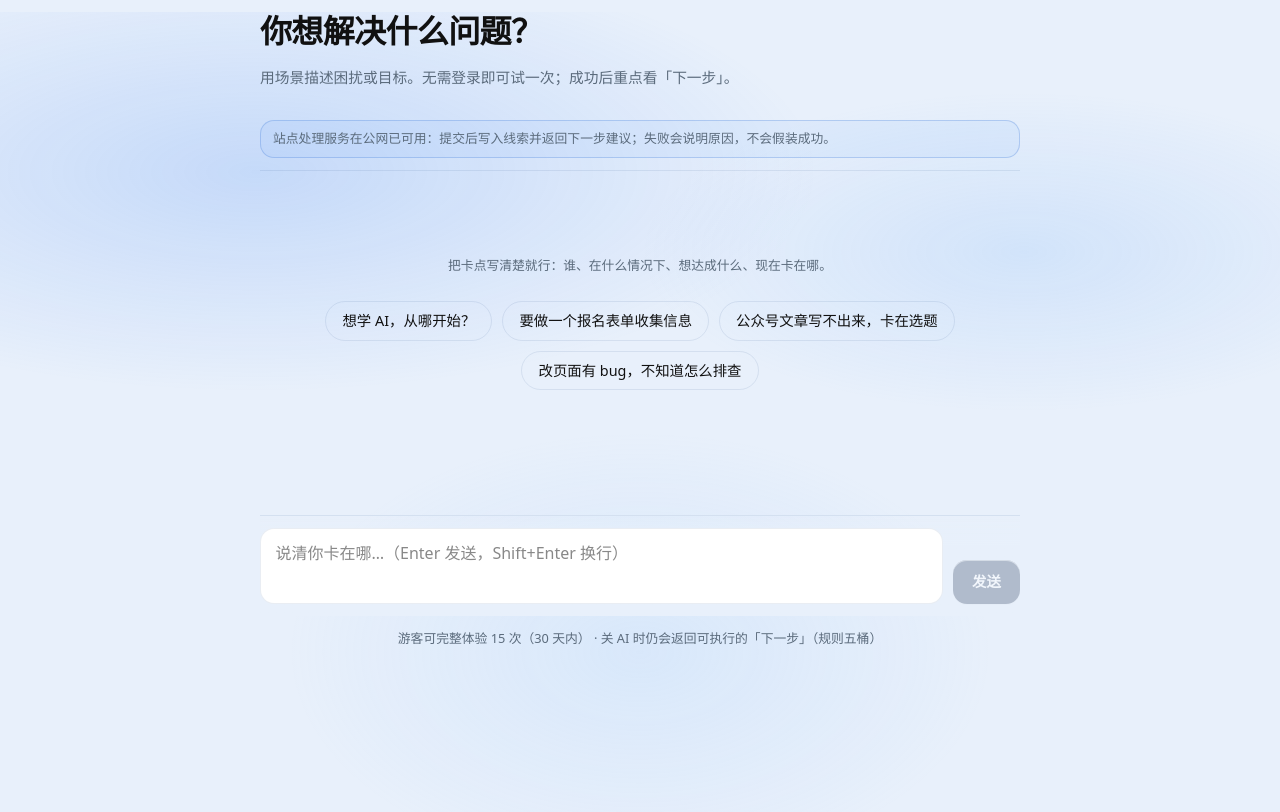
Test: 卡口对话页 › 失败时对话内说明原因，并把内容还给输入框
Type "想学 AI 写周报，每天只有半小时，不知道从哪开始" into the text box named "描述你的卡点".
click(601, 566); type("想学 AI 写周报，每天只有半小时，不知道从哪开始")  # box left=260, top=528, right=943, bottom=604
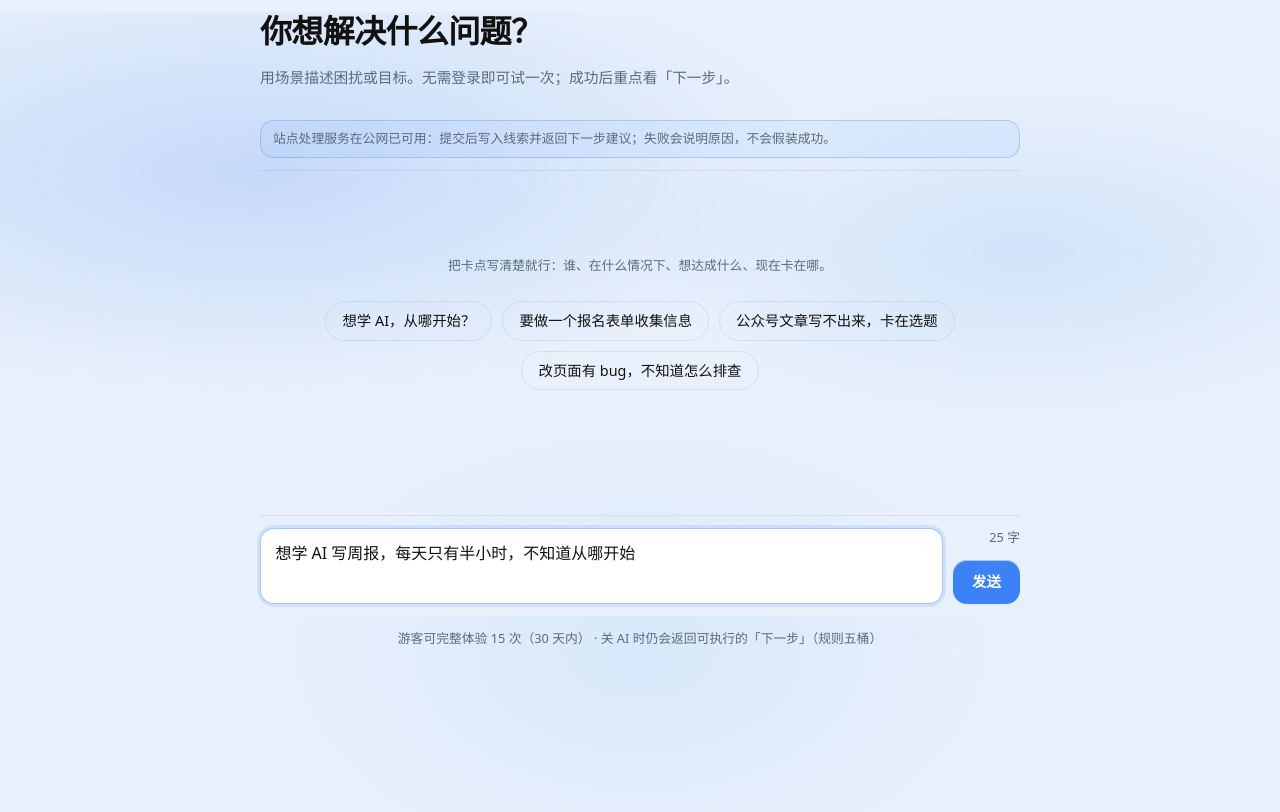
Click the button "发送".
click(986, 582)  # box left=953, top=560, right=1020, bottom=604
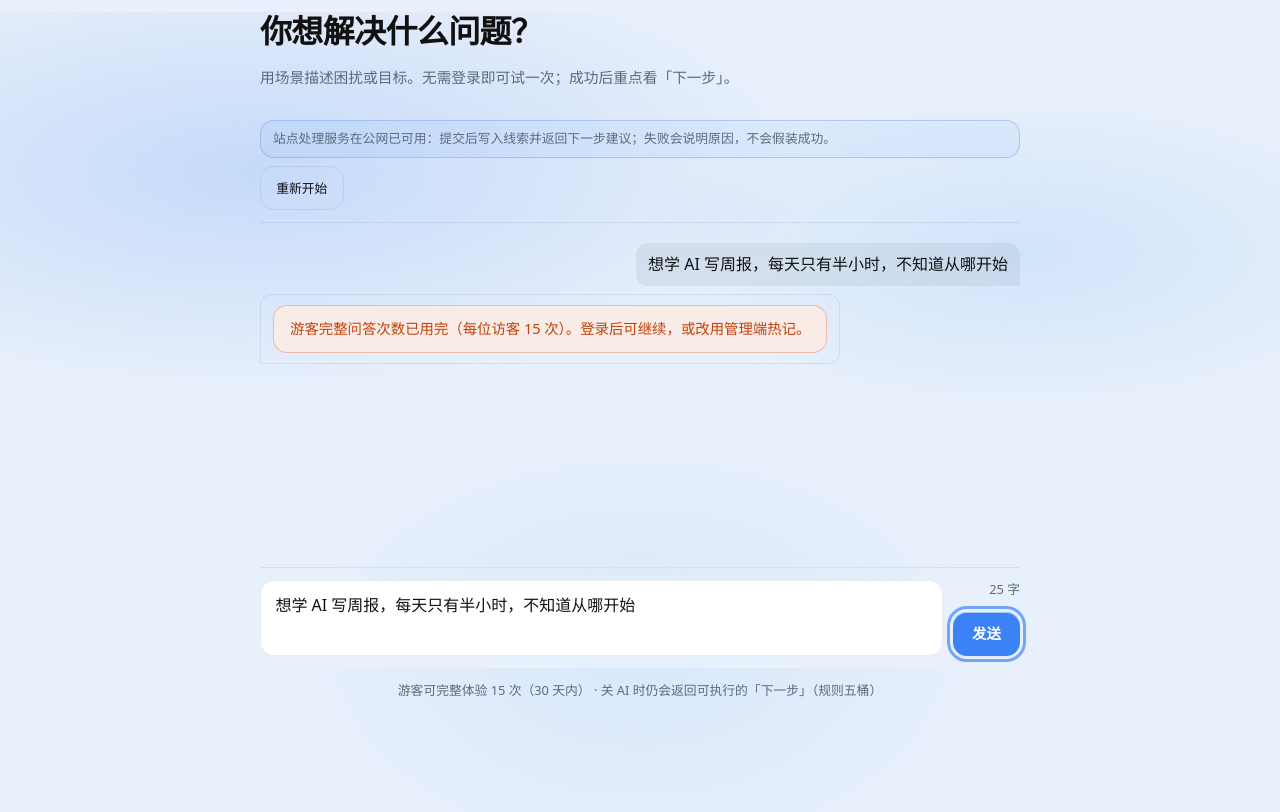
Expected: the message shows "游客", left=273, top=305, right=827, bottom=353
